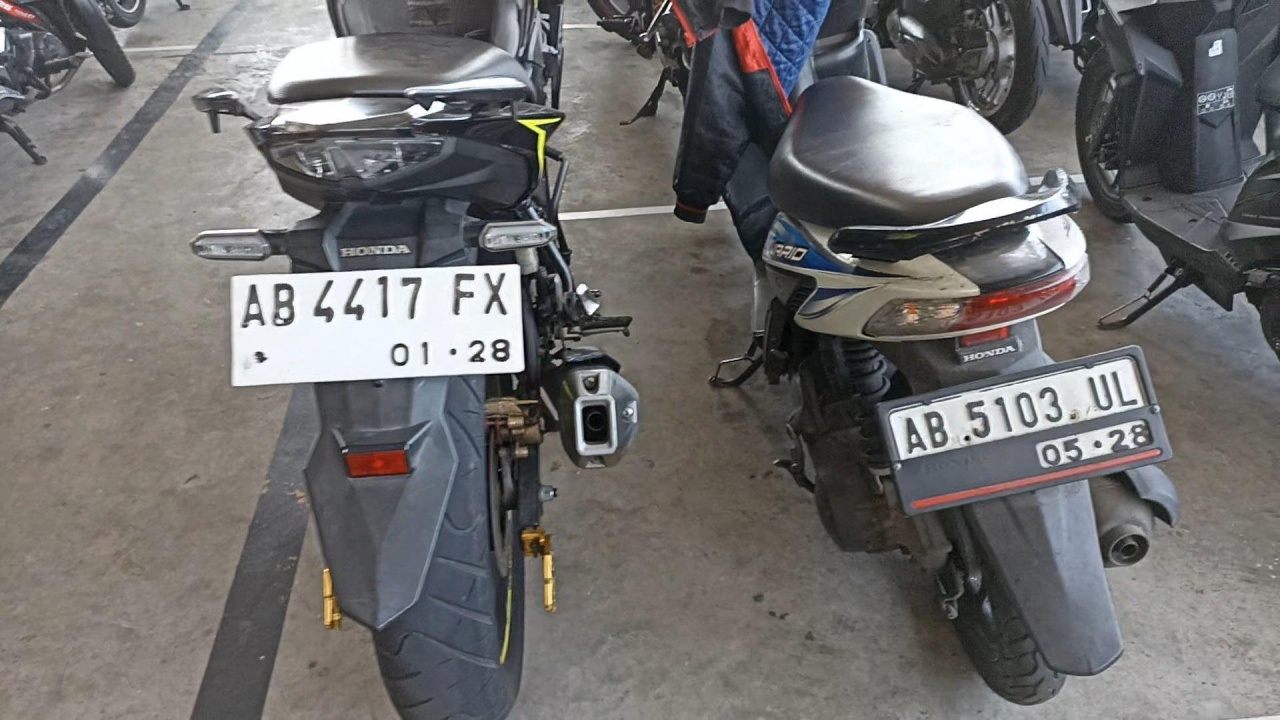plate: (881, 347, 1170, 513), (231, 261, 523, 387)
